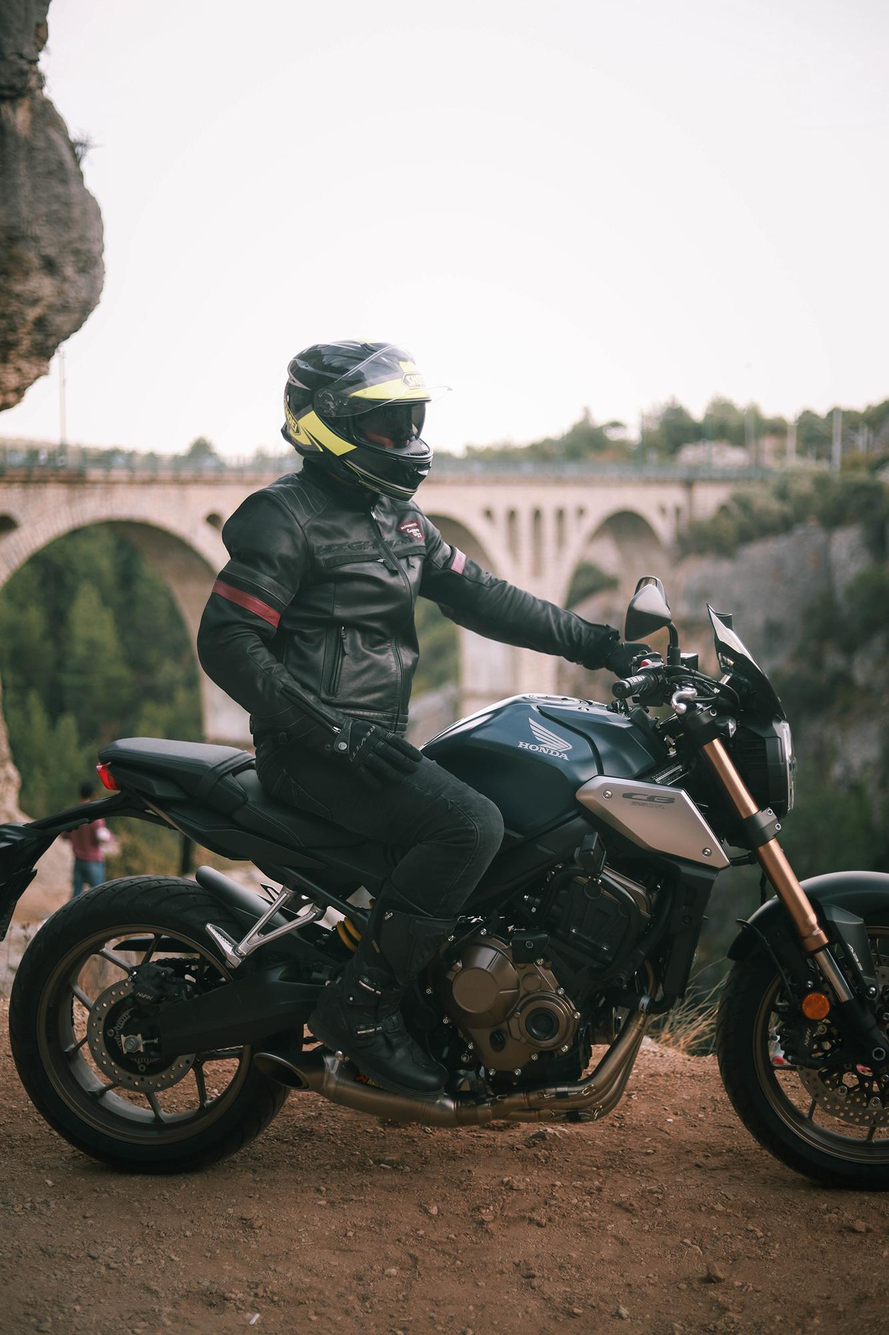helmet: (280, 337, 454, 505)
